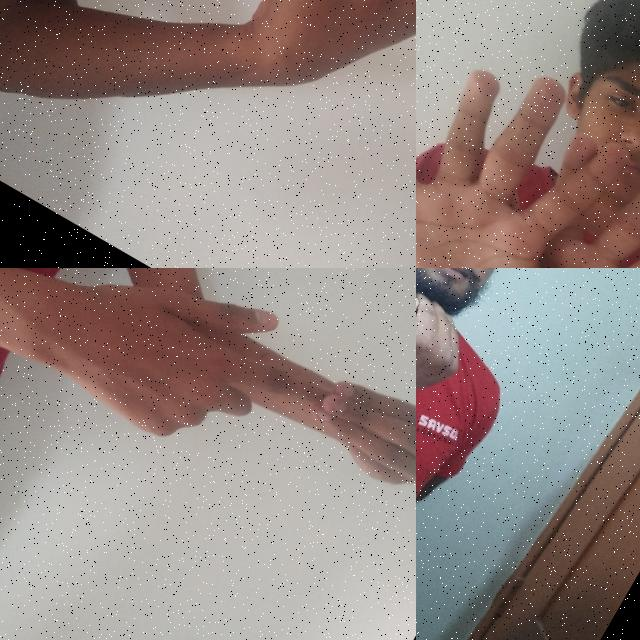Chin Flick: (416, 268, 583, 433)
Five Fathers: (0, 268, 416, 593)
Middle Finger: (211, 0, 416, 151)
Moutza: (416, 0, 640, 268), (433, 86, 640, 268)
